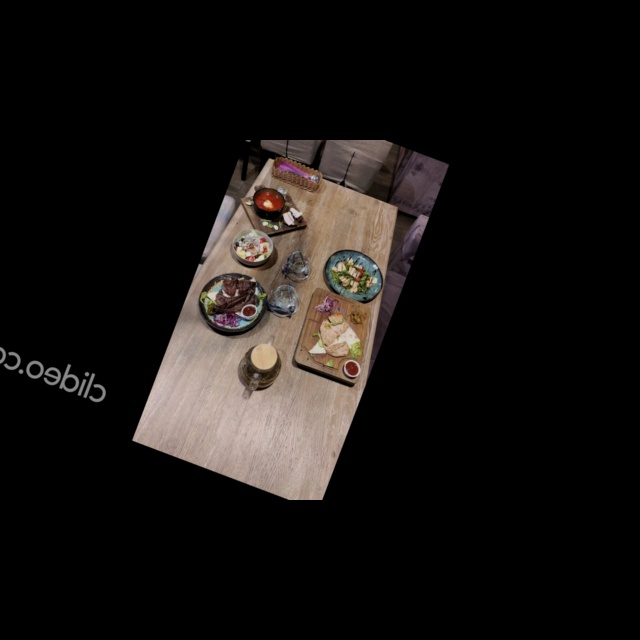Том ям: (231, 176, 315, 250)
графин с чаем: (234, 328, 291, 397)
закуска: (287, 286, 384, 388)
мясное блюдо: (190, 262, 275, 343)
салат: (318, 243, 391, 309)
салат цезарь: (227, 223, 278, 272)
